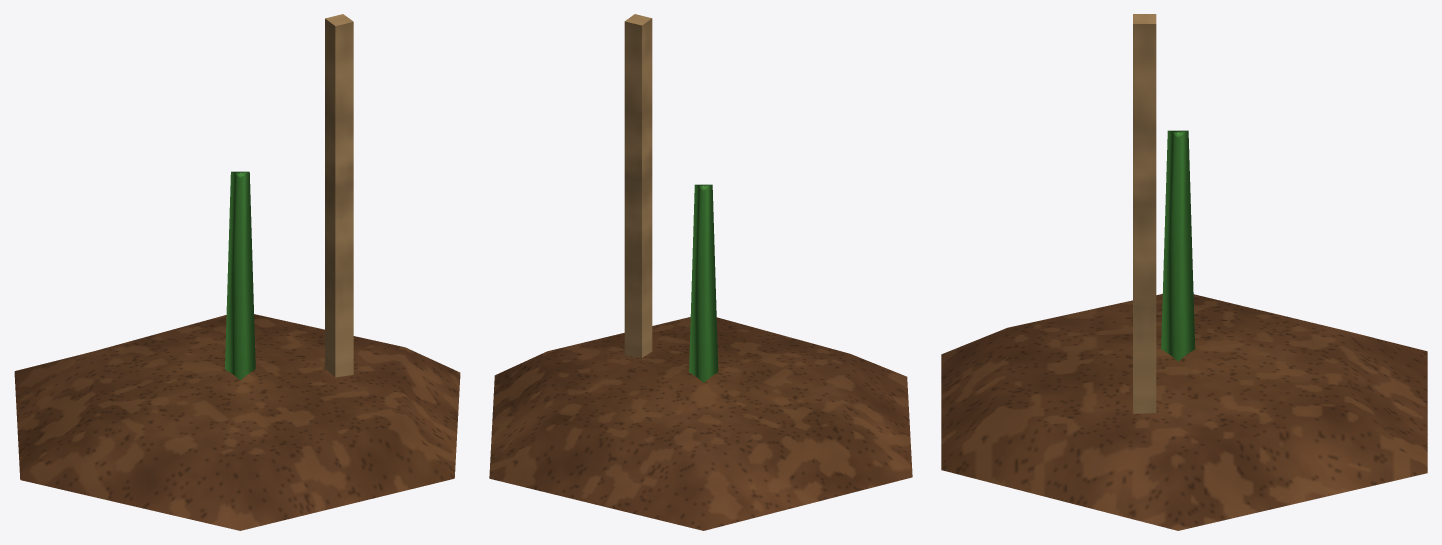
File: plant-tomato-2-far.glb
3 views of the same model, side by side, from view 1: azimuth 30°, elevation 25°; view 2: azimuth 150°, elevation 25°; view 3: azimuth 270°, elevation 25° (orthographic). The views are drawn at different scales.
Visible parts, largest first — view 1: plant-tomato-2-far; view 2: plant-tomato-2-far; view 3: plant-tomato-2-far.
Part boxes in pixels (x1,y1,x2,y2): plant-tomato-2-far: (14, 14, 460, 530); plant-tomato-2-far: (489, 14, 912, 530); plant-tomato-2-far: (941, 14, 1427, 530).
Bounding box in the file's own units: 0.84 × 0.7235 × 0.7275.
Materials: 4 (2 with a texture image).
